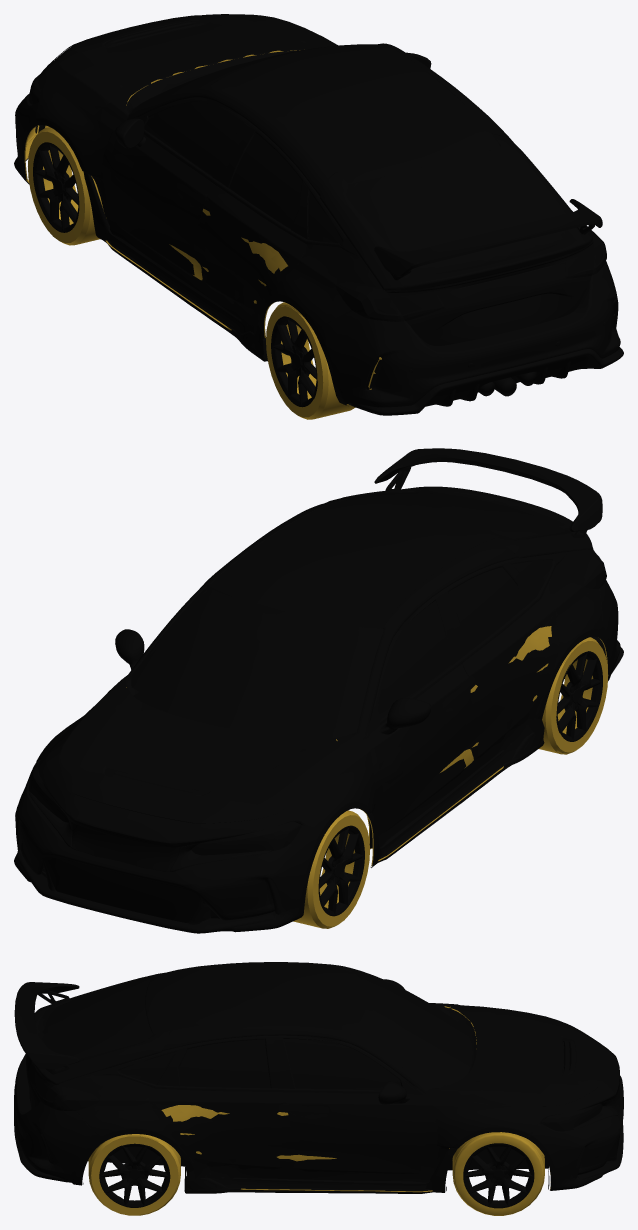
Rendered from Effectmesh.fbx.
3 views of the same model, one above another, from view 1: azimuth 30°, elevation 25°; view 2: azimuth 150°, elevation 25°; view 3: azimuth 270°, elevation 25° (orthographic). The views are drawn at different scales.
Visible parts, largest first — view 1: dirt, soap, rain, scratch; view 2: dirt, soap, rain, scratch; view 3: dirt, soap, rain, scratch.
Boxes of the visible parts, box(x1,y1,x2,y2) form: dirt: box(14, 14, 620, 419); soap: box(17, 23, 623, 415); rain: box(25, 50, 381, 404); scratch: box(24, 50, 348, 404); dirt: box(14, 486, 620, 933); soap: box(17, 448, 623, 923); rain: box(126, 626, 607, 866); scratch: box(364, 632, 606, 867); dirt: box(14, 962, 623, 1215); soap: box(14, 969, 617, 1215); rain: box(161, 1006, 550, 1188); scratch: box(171, 1011, 465, 1192).
Bounding box in the file's own units: 242 × 170 × 539.
